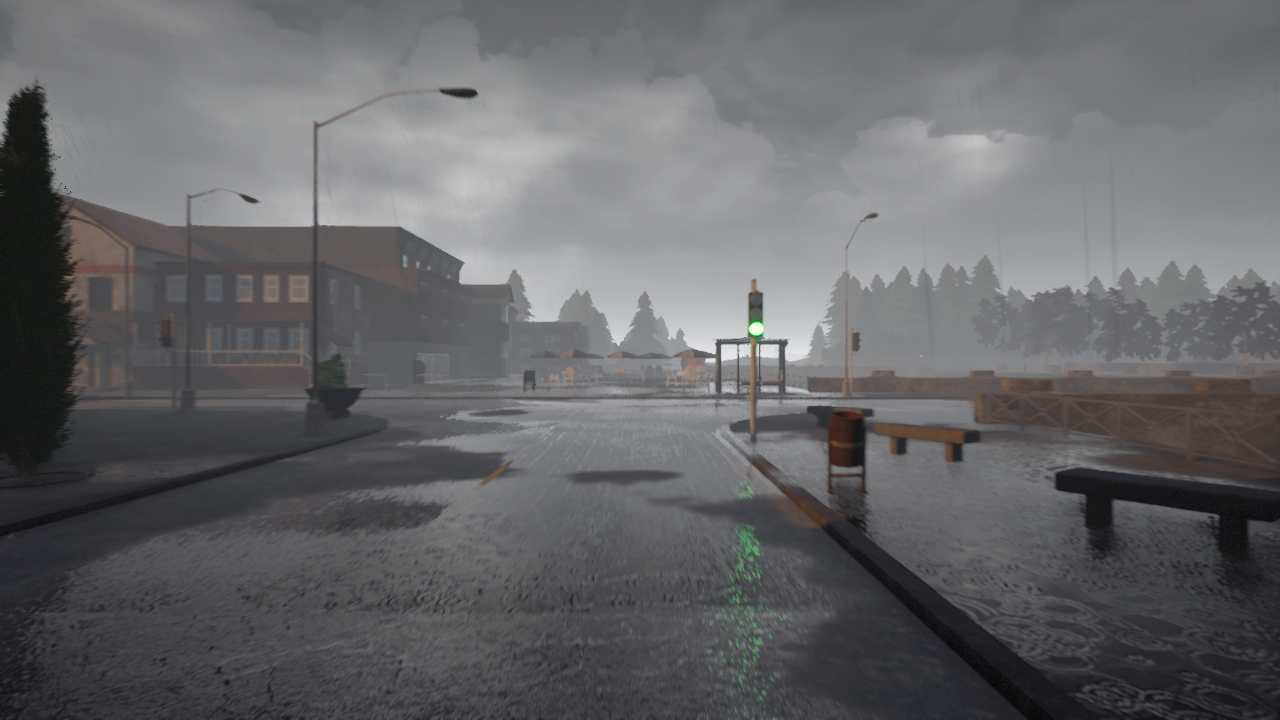green: (746, 292, 765, 342)
